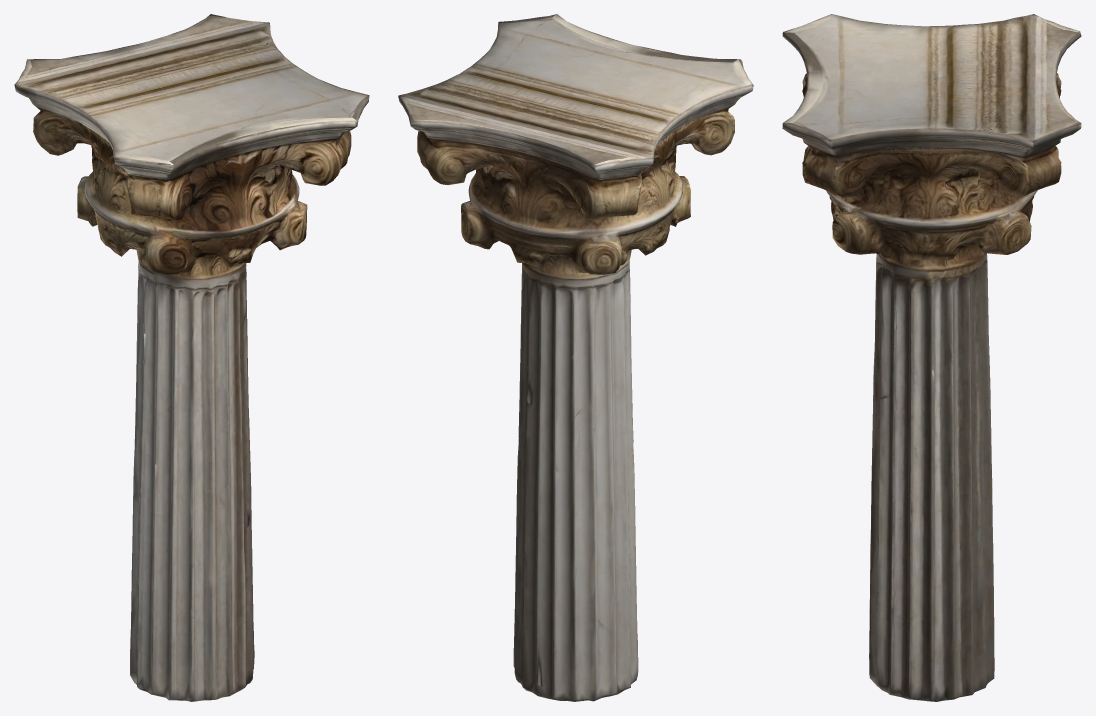
The model's file is prizePoolPillar.glb.
3 views of the same model, side by side, from view 1: azimuth 30°, elevation 25°; view 2: azimuth 150°, elevation 25°; view 3: azimuth 270°, elevation 25° (orthographic). The views are drawn at different scales.
Size of the model in its own units: 0.9115 by 2 by 0.9052.
Materials: 1 (1 with a texture image).
